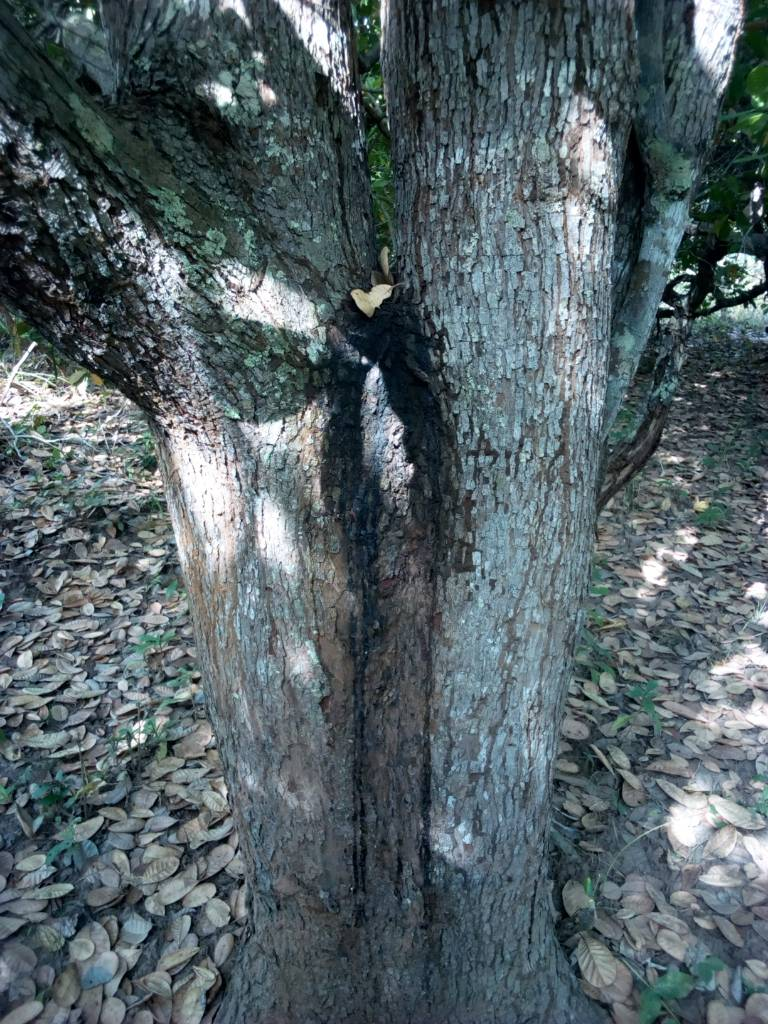Gommose: (311, 310, 465, 924)
